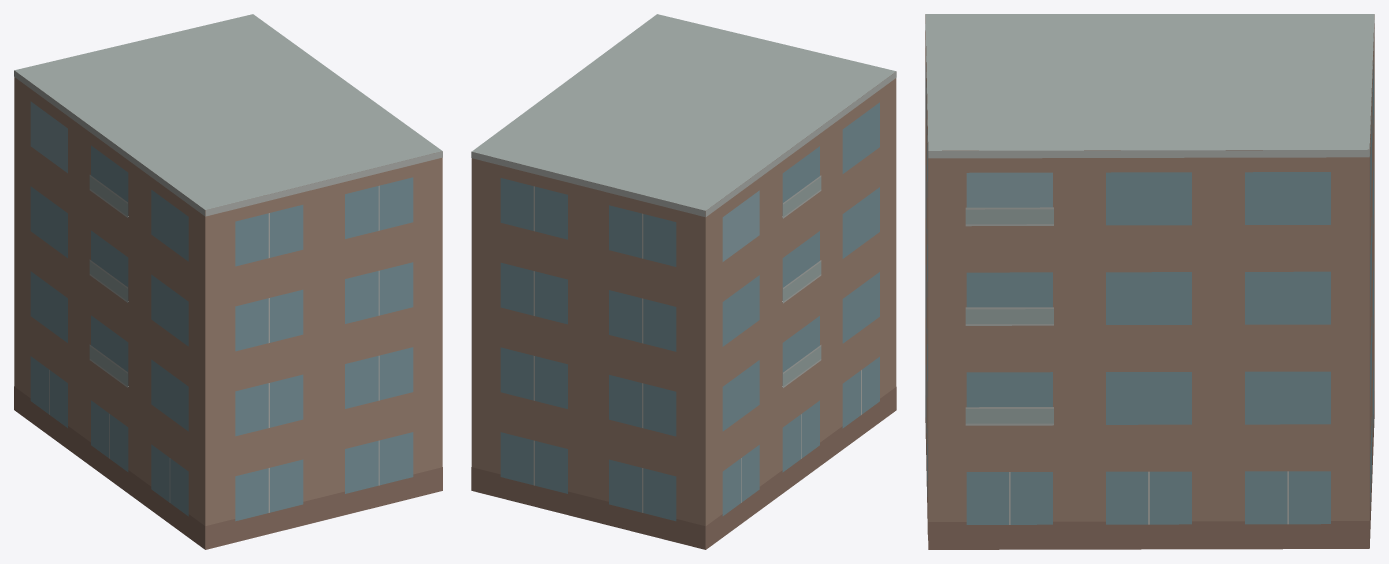
The model's file is survey-upis-32550749.glb.
3 views of the same model, side by side, from view 1: azimuth 30°, elevation 25°; view 2: azimuth 150°, elevation 25°; view 3: azimuth 270°, elevation 25° (orthographic). The views are drawn at different scales.
Visible parts, largest first — view 1: survey-upis-32550749.tmp; view 2: survey-upis-32550749.tmp; view 3: survey-upis-32550749.tmp.
Part boxes in pixels (box(x1,y1,x2,y2)): survey-upis-32550749.tmp: box(14, 14, 442, 549); survey-upis-32550749.tmp: box(471, 14, 896, 549); survey-upis-32550749.tmp: box(925, 14, 1374, 549).
Size of the model in its own units: 9.48 by 12.8 by 13.07.
